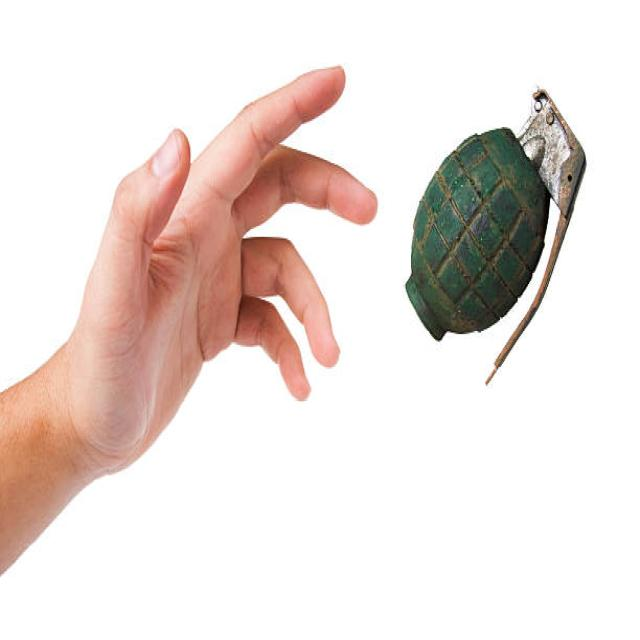grenade: (399, 75, 592, 393)
